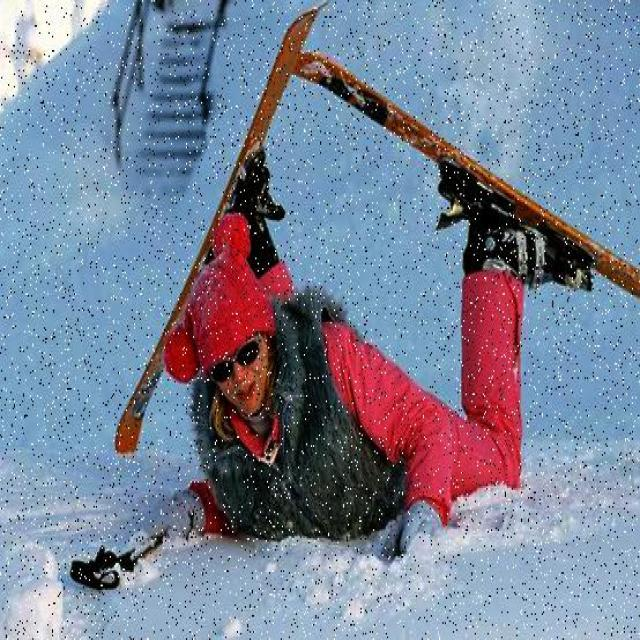fall: (182, 222, 526, 544)
